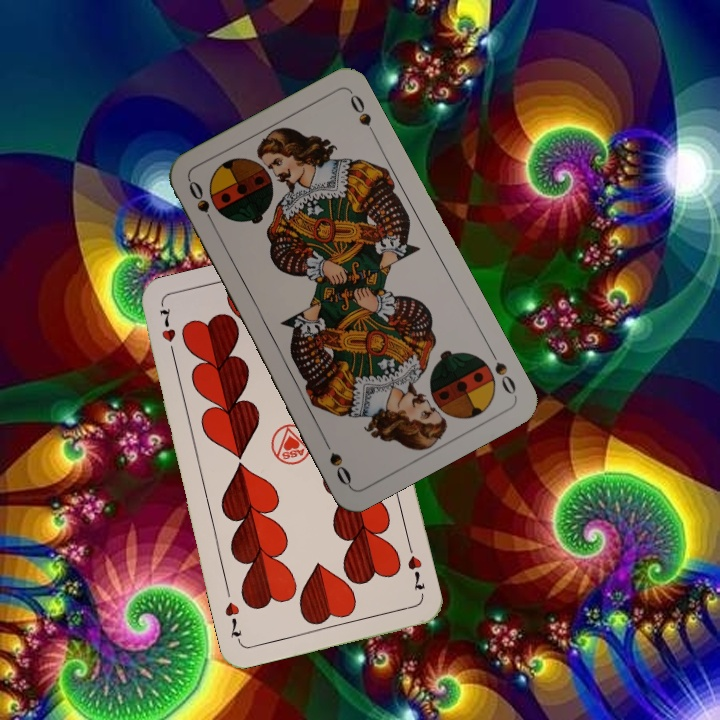H7: (155, 302, 179, 360), (403, 541, 428, 593)
SO: (184, 176, 219, 231), (485, 344, 519, 398)
